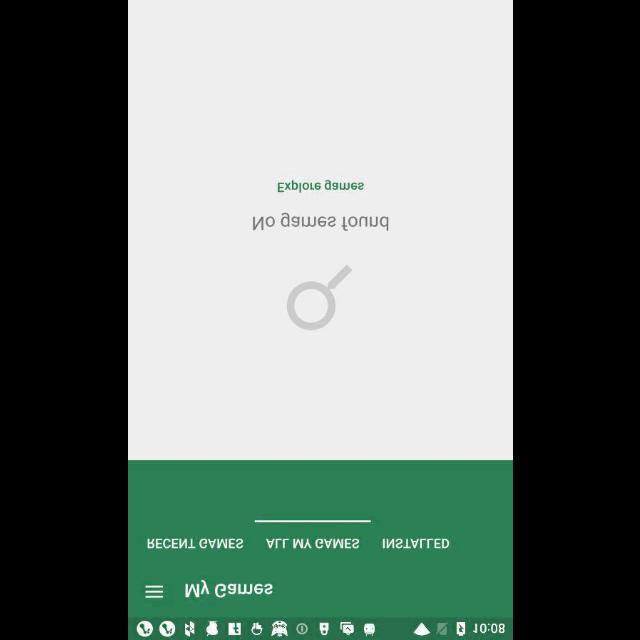icon: (286, 264, 352, 330), (144, 584, 164, 598)
text: (252, 212, 388, 232), (184, 579, 272, 597), (276, 179, 364, 193), (146, 538, 242, 548), (265, 538, 359, 548), (382, 538, 448, 548)
uppertaskbar: (128, 617, 512, 639)
